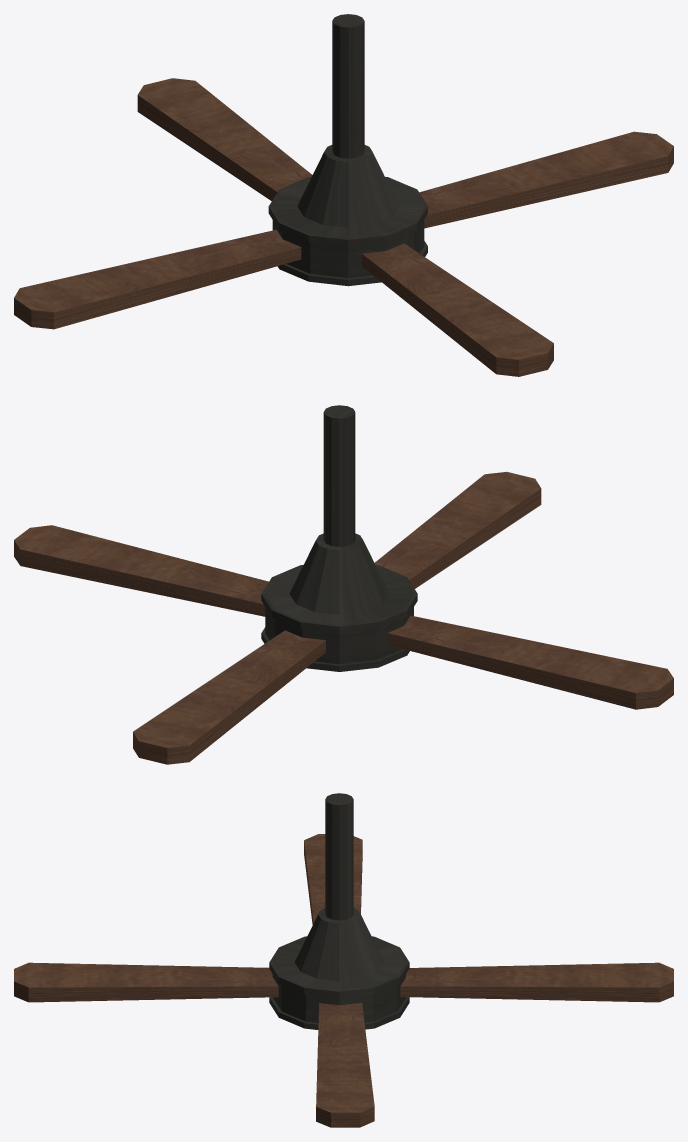
The model's file is ceilingFan.fbx.
3 renders of one model, top to bottom at view 1: azimuth 30°, elevation 25°; view 2: azimuth 150°, elevation 25°; view 3: azimuth 270°, elevation 25°, orthographic. The views are drawn at different scales.
Visible parts, largest first — view 1: pCube1 (×2), pCube2 (×2), base; view 2: pCube2 (×2), pCube1 (×2), base; view 3: pCube1 (×2), base, pCube2 (×2).
Boxes of the visible parts, <box> form: pCube1 (×2): <box>362,131,673,376</box>; pCube2 (×2): <box>14,78,312,329</box>; base: <box>268,14,427,286</box>; pCube2 (×2): <box>133,615,673,764</box>; pCube1 (×2): <box>14,471,541,616</box>; base: <box>261,405,417,671</box>; pCube1 (×2): <box>14,962,374,1127</box>; base: <box>269,793,409,1029</box>; pCube2 (×2): <box>304,834,673,1002</box>.
Bounding box in the file's own units: 50.52 × 17.48 × 50.48.
3 materials, 2 textured.
